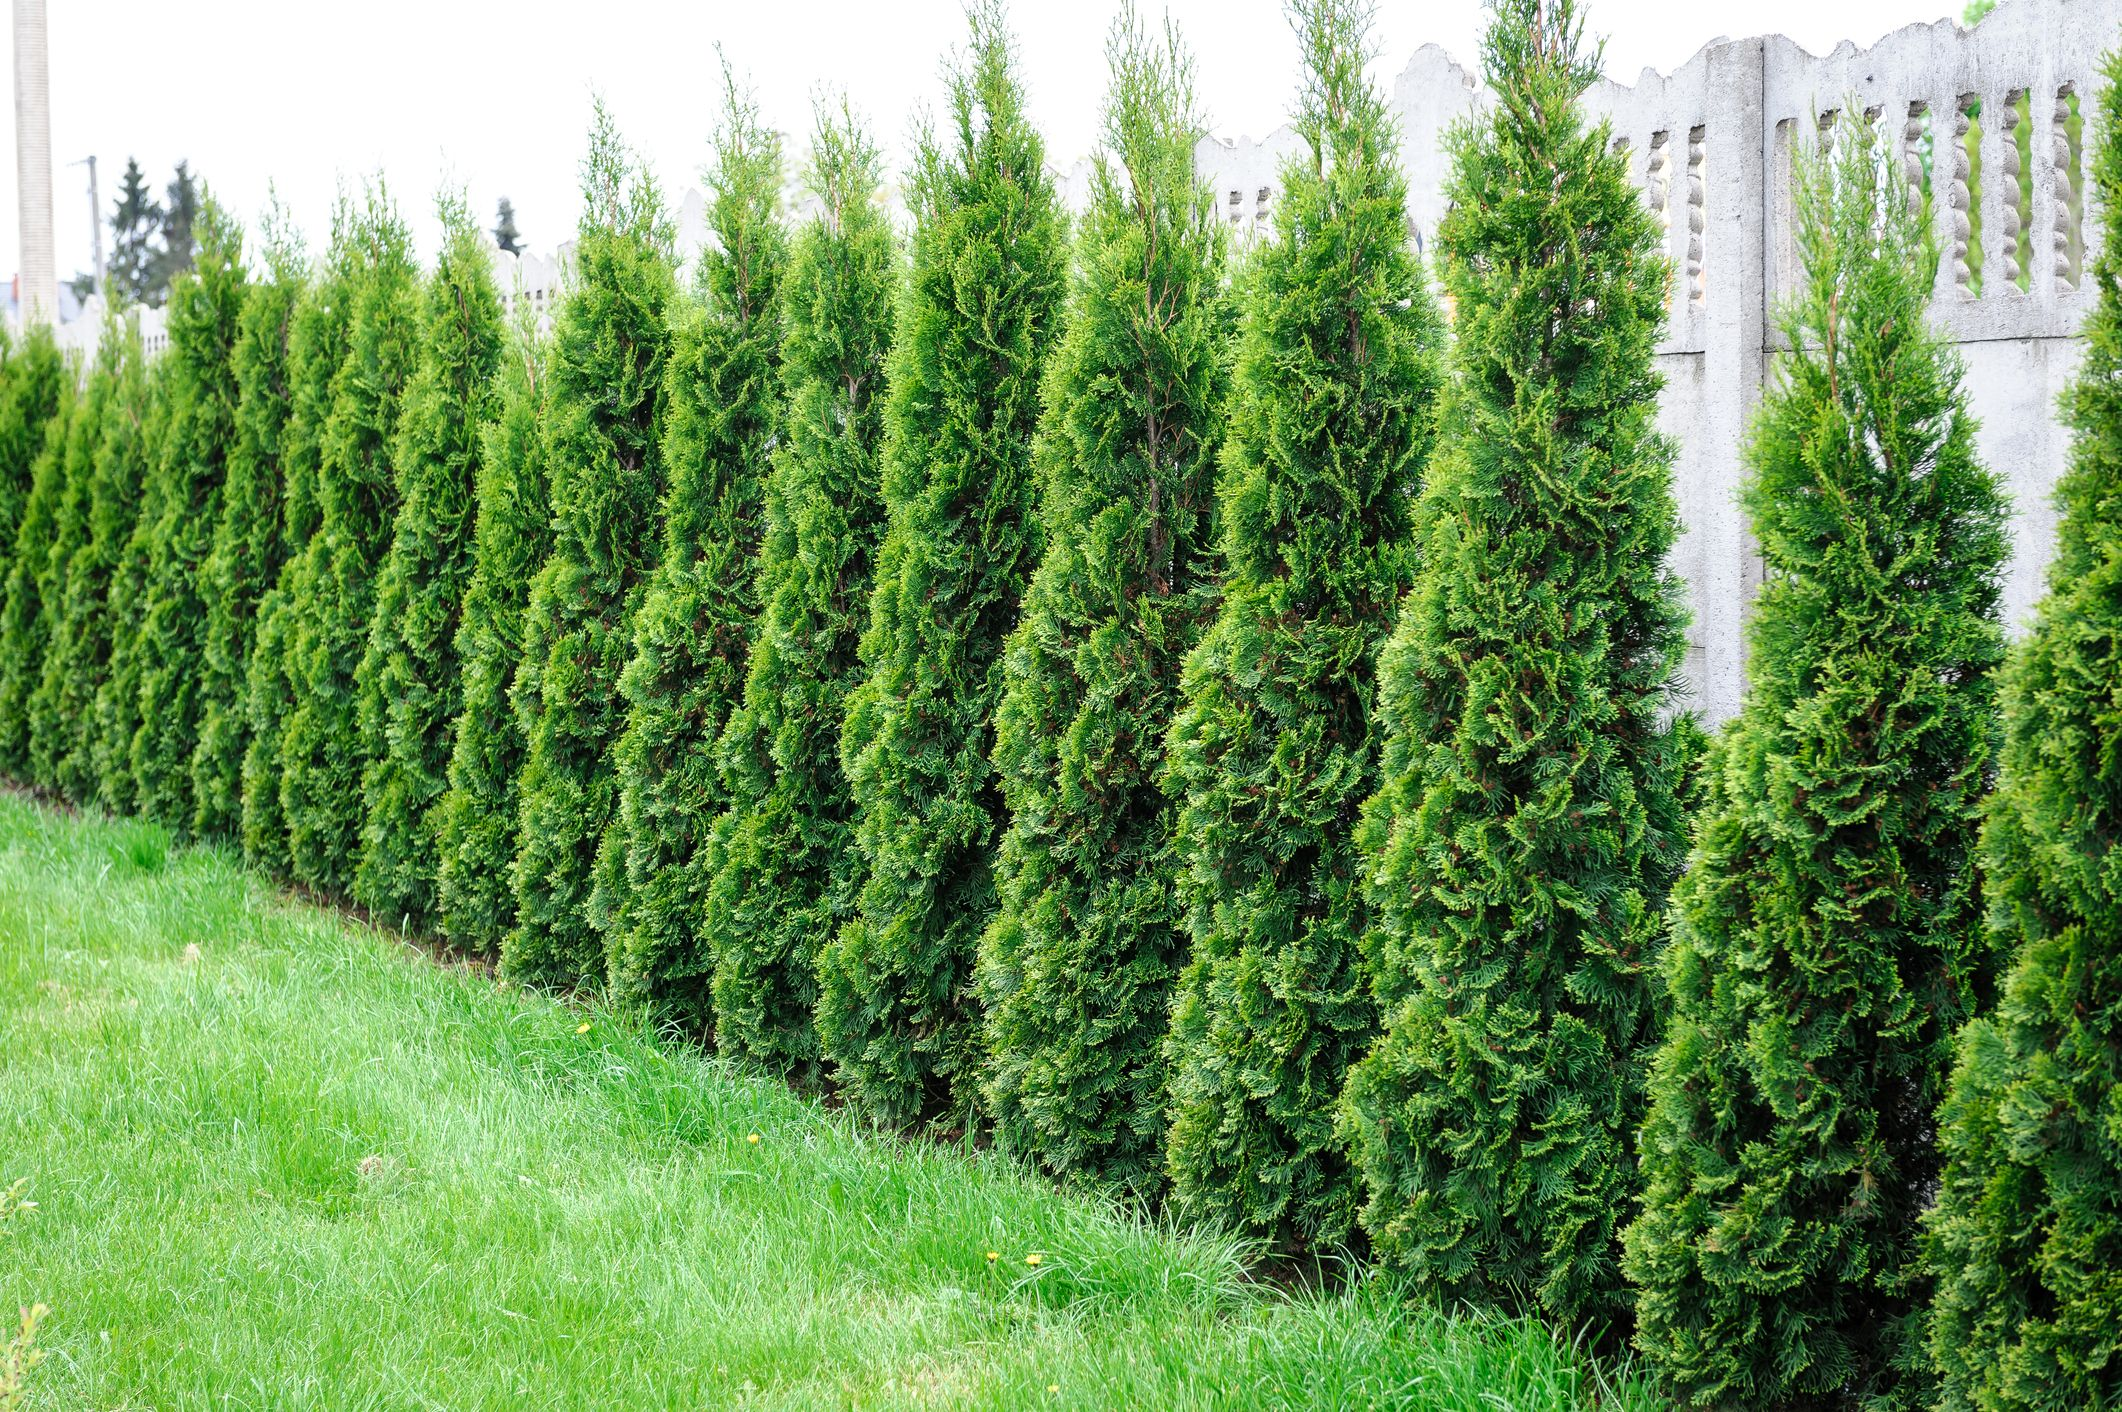plants: (1662, 120, 1961, 1374), (1393, 2, 1653, 1262), (1200, 22, 1382, 1199), (1974, 143, 2122, 1373), (890, 19, 1041, 1109), (1048, 90, 1199, 1180), (569, 98, 737, 1020), (654, 91, 781, 1023), (778, 109, 906, 1040), (262, 213, 435, 873), (443, 356, 635, 942), (154, 162, 262, 826), (17, 321, 153, 810)
